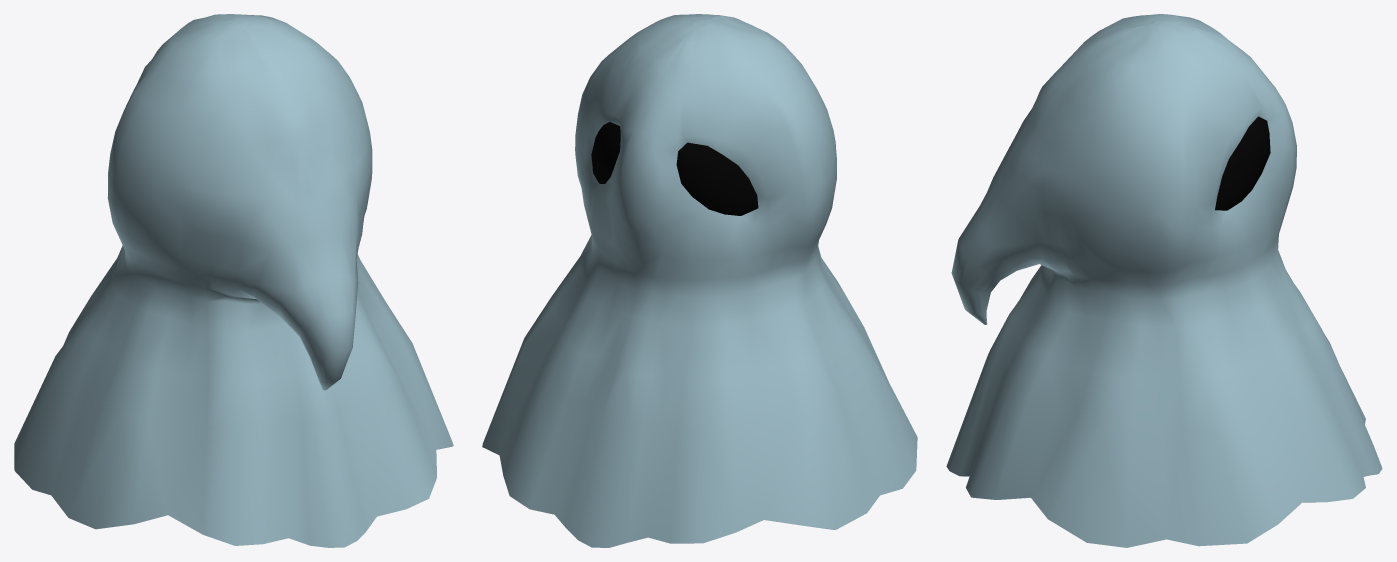
The model's file is enemy_ghost.fbx.
3 renders of one model, left to right at view 1: azimuth 30°, elevation 25°; view 2: azimuth 150°, elevation 25°; view 3: azimuth 270°, elevation 25°, orthographic.
Parts seen in each view (by area): view 1: Cube; view 2: Cube; view 3: Cube.
Boxes of the visible parts, x1,y1,x2,y2 form: Cube: (14,14,453,547); Cube: (482,14,917,547); Cube: (946,14,1382,547).
Bounding box in the file's own units: 0.8887 × 0.8649 × 1.
